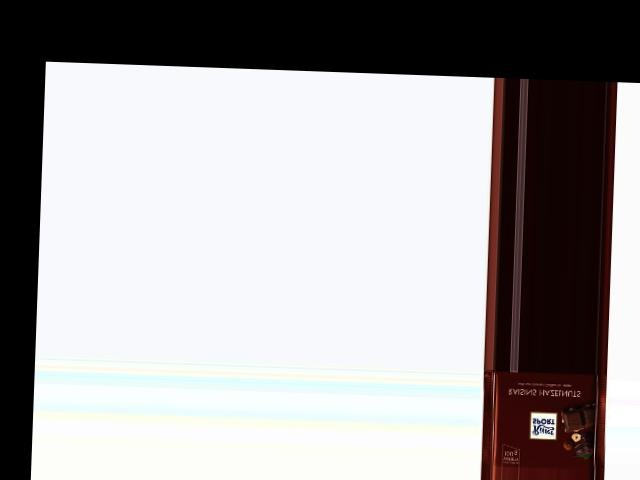chocolate: (480, 369, 609, 470)
